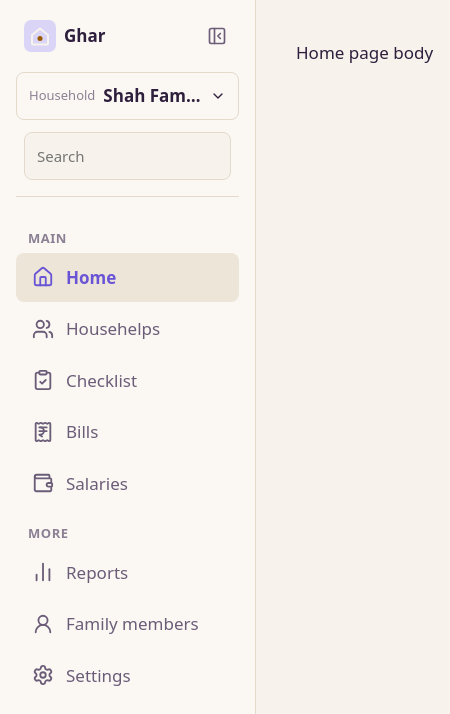
Test: AppShell › collapses and expands the sidebar
Click the button named "Collapse sidebar" at (217, 36), box top-left (203, 22), bottom-right (231, 50)
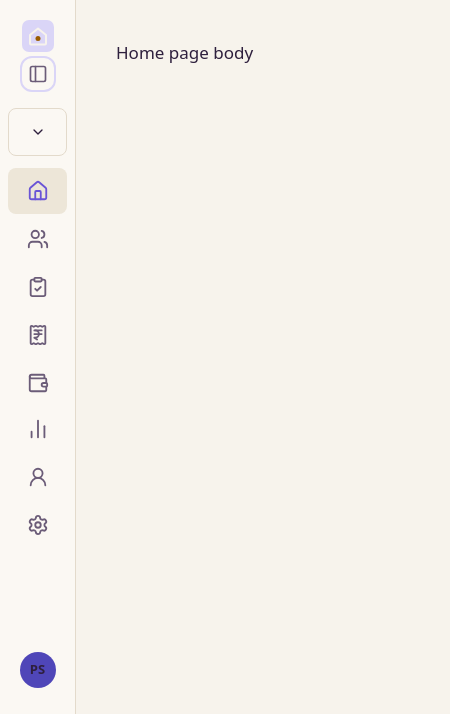
Result: the button named "Expand sidebar" is shown at top-left (24, 60), bottom-right (52, 88)
